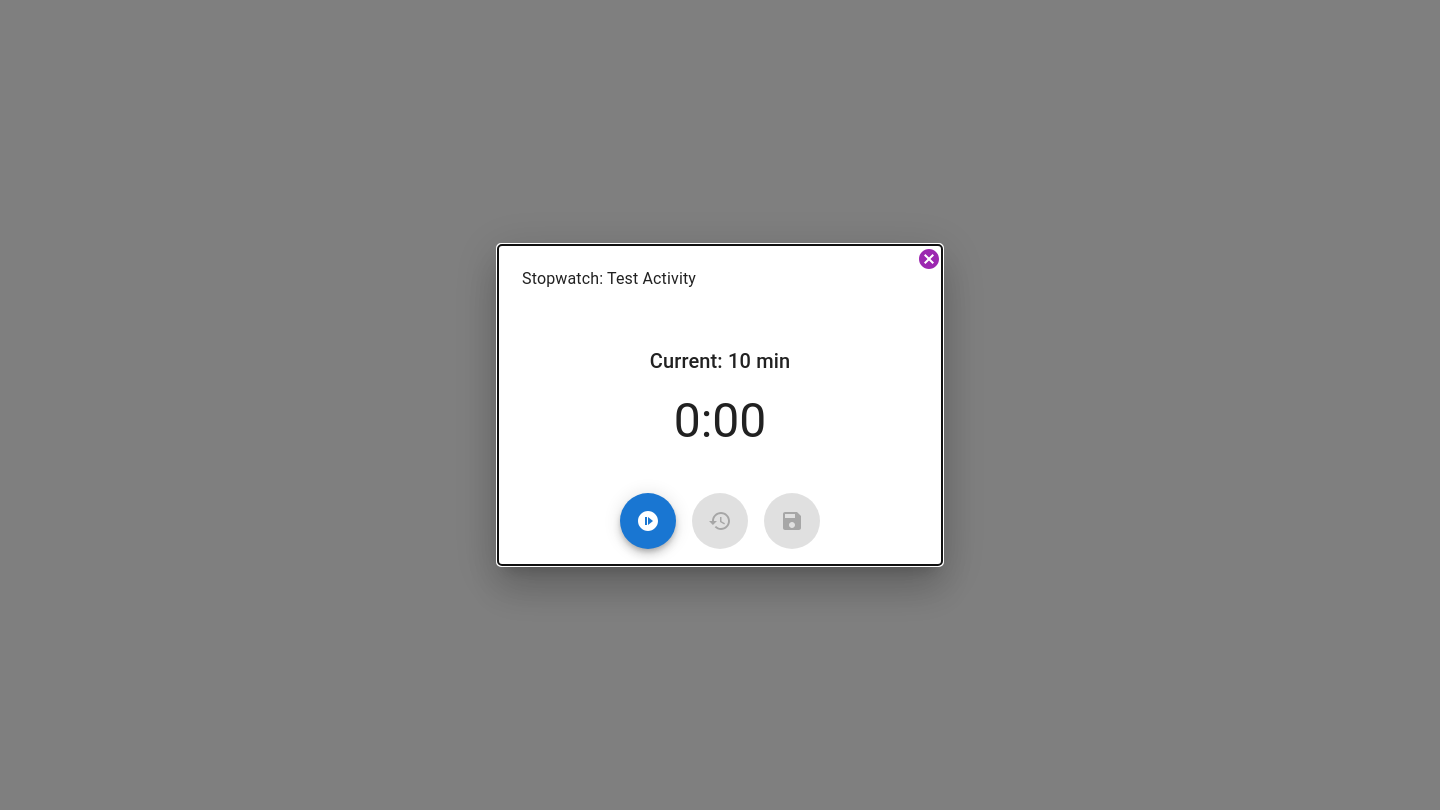
Test: StopWatchModal › shows save prompt when save is clicked
What coordinates should you click on to do the following:
click the button named "start"
I would click on:
 (648, 521)
Its box is [620,493,676,549].
Wait 120000 ms
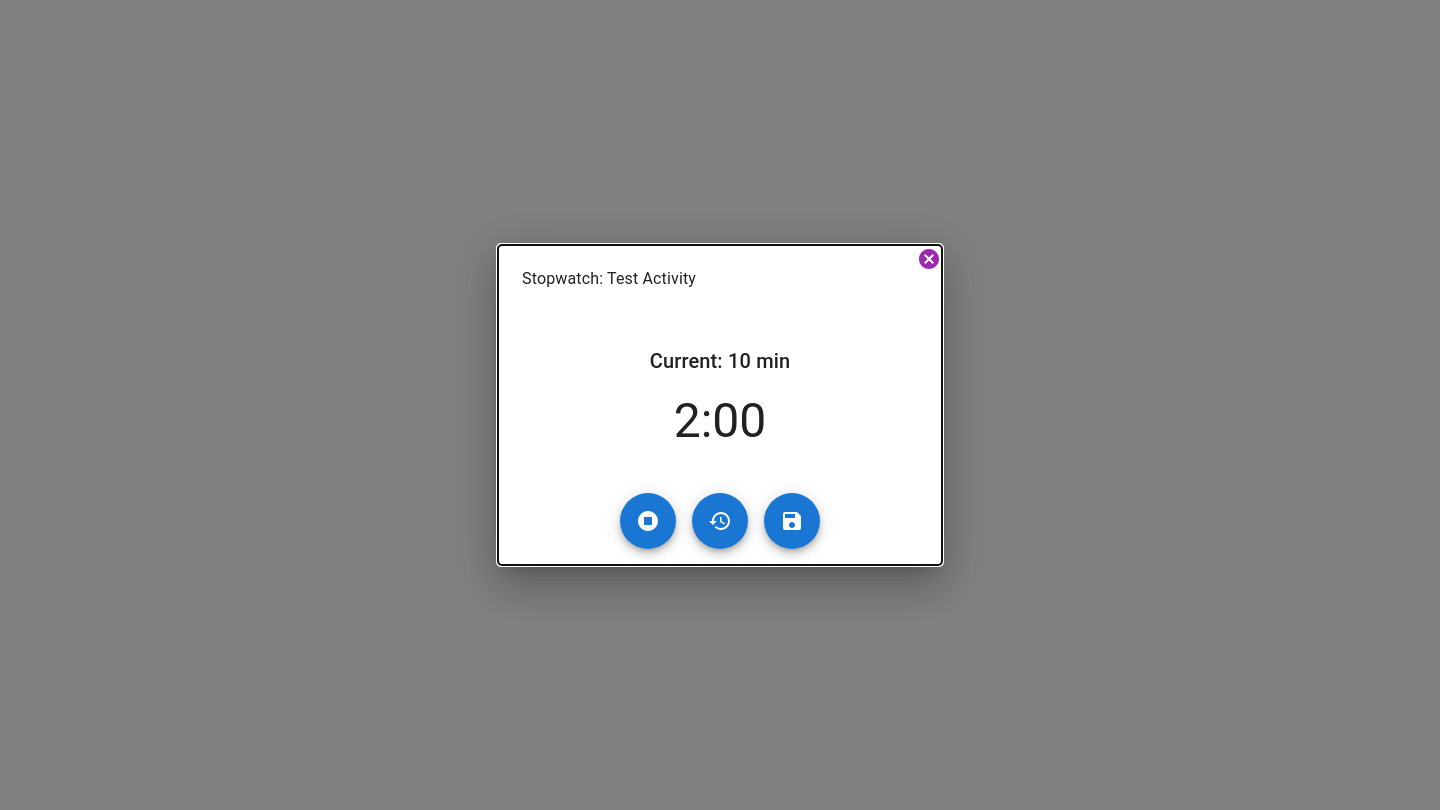
What coordinates should you click on to do the following:
click the button named "save"
I would click on:
 (792, 521)
Its box is [764,493,820,549].
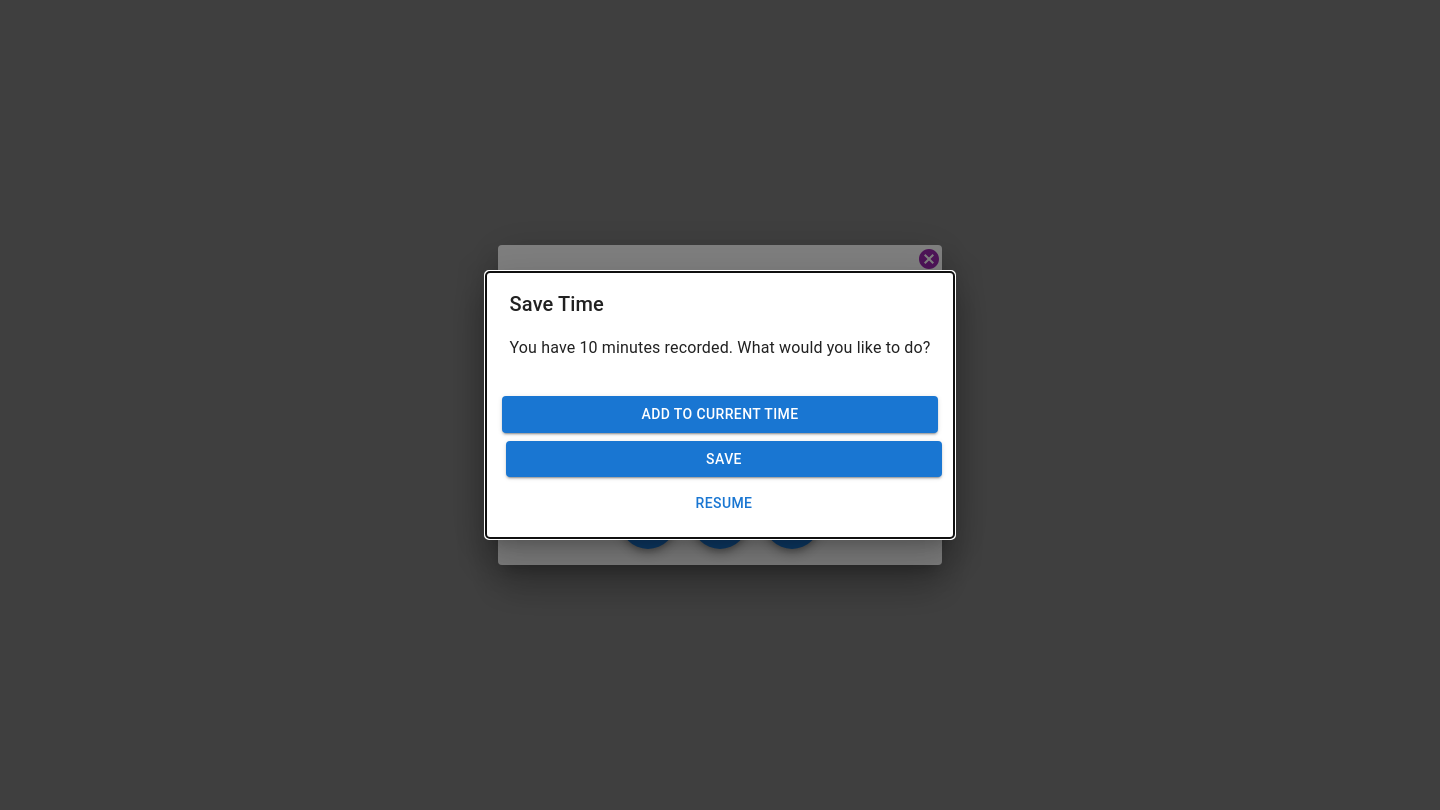
Result: the heading "Save Time" is shown at [510,292,604,316]
Result: the text "You have 10 minutes recorded. What would you like to do?" is shown at [510,336,930,360]
